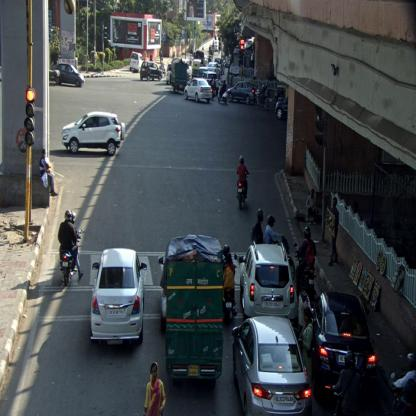car: (231, 315, 313, 415), (314, 290, 378, 400), (90, 246, 148, 352), (240, 241, 300, 324), (61, 110, 125, 159), (54, 65, 85, 89), (184, 78, 212, 104), (228, 82, 257, 104), (140, 62, 163, 82), (200, 70, 219, 94), (129, 51, 143, 75)
motorcycle: (58, 209, 84, 289), (293, 226, 319, 304), (224, 244, 237, 327), (237, 155, 249, 211), (255, 84, 271, 112), (218, 80, 230, 106)
truck: (165, 233, 224, 390), (170, 56, 186, 95)
